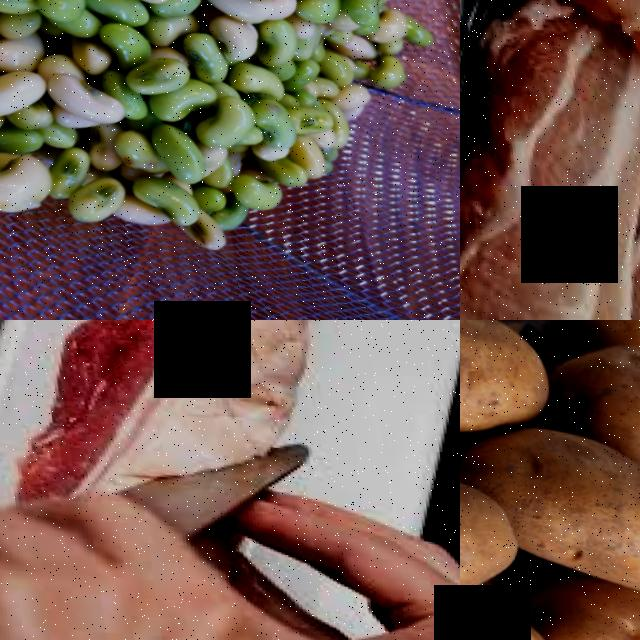peas: (0, 0, 372, 223)
pork belly: (460, 0, 640, 320), (110, 320, 400, 452), (237, 353, 243, 355)
potato: (462, 416, 640, 598), (531, 320, 640, 461), (460, 433, 522, 631), (460, 320, 553, 436), (530, 567, 640, 640)
